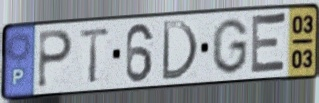6: (124, 21, 156, 85)
D: (159, 18, 200, 82)
E: (248, 11, 289, 77)
G: (209, 16, 249, 76)
P: (36, 29, 75, 91)
T: (77, 25, 113, 86)
